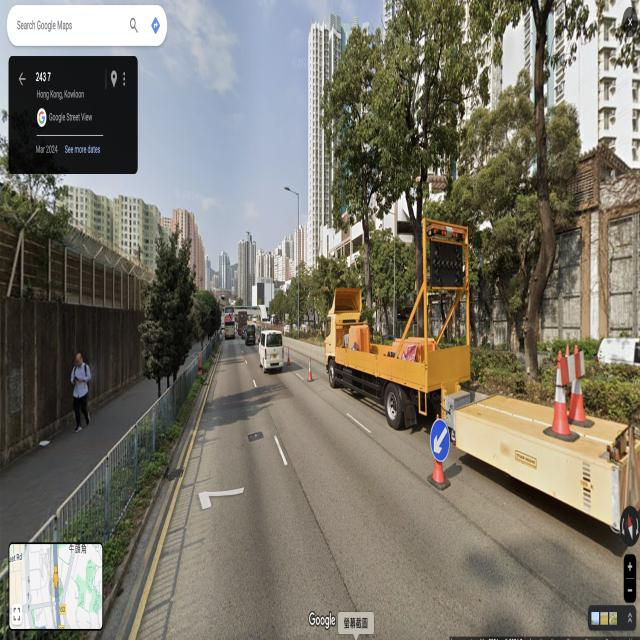Order-Sign: (431, 418, 450, 462)
